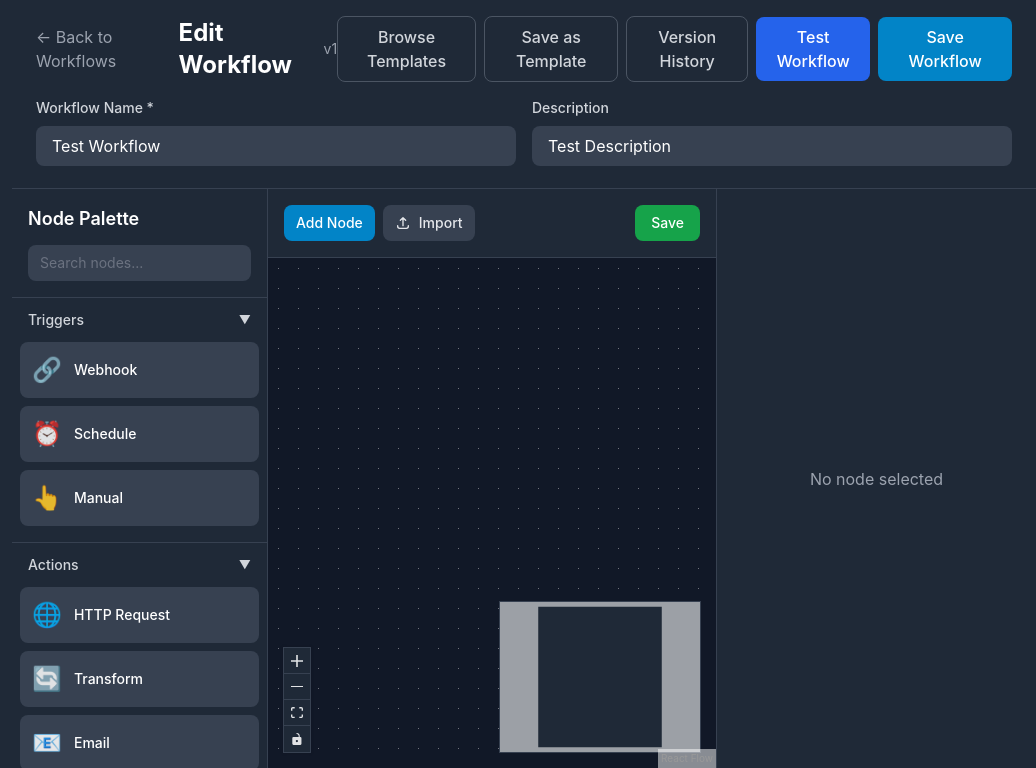
Test: WorkflowEditor › Dry Run / Test Workflow › should show error message when dry run fails
Step 1. Click the button "Test Workflow" → (813, 49), box [756, 17, 870, 81]
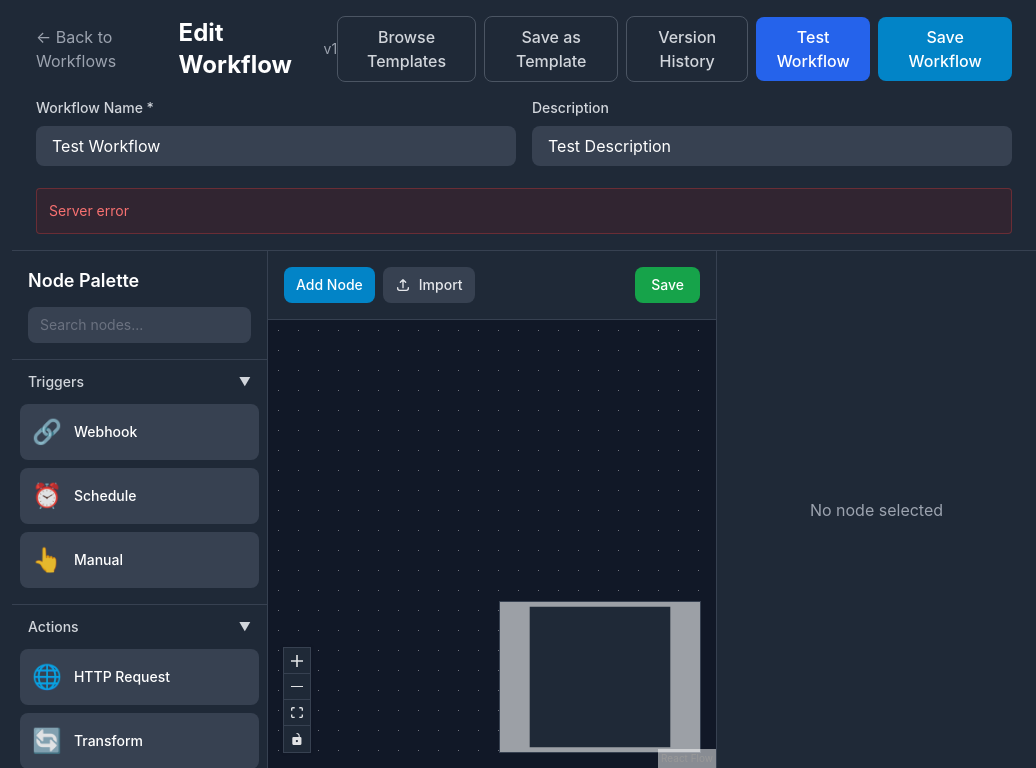
Now the text "Server error" is shown, box [36, 188, 1012, 234]
